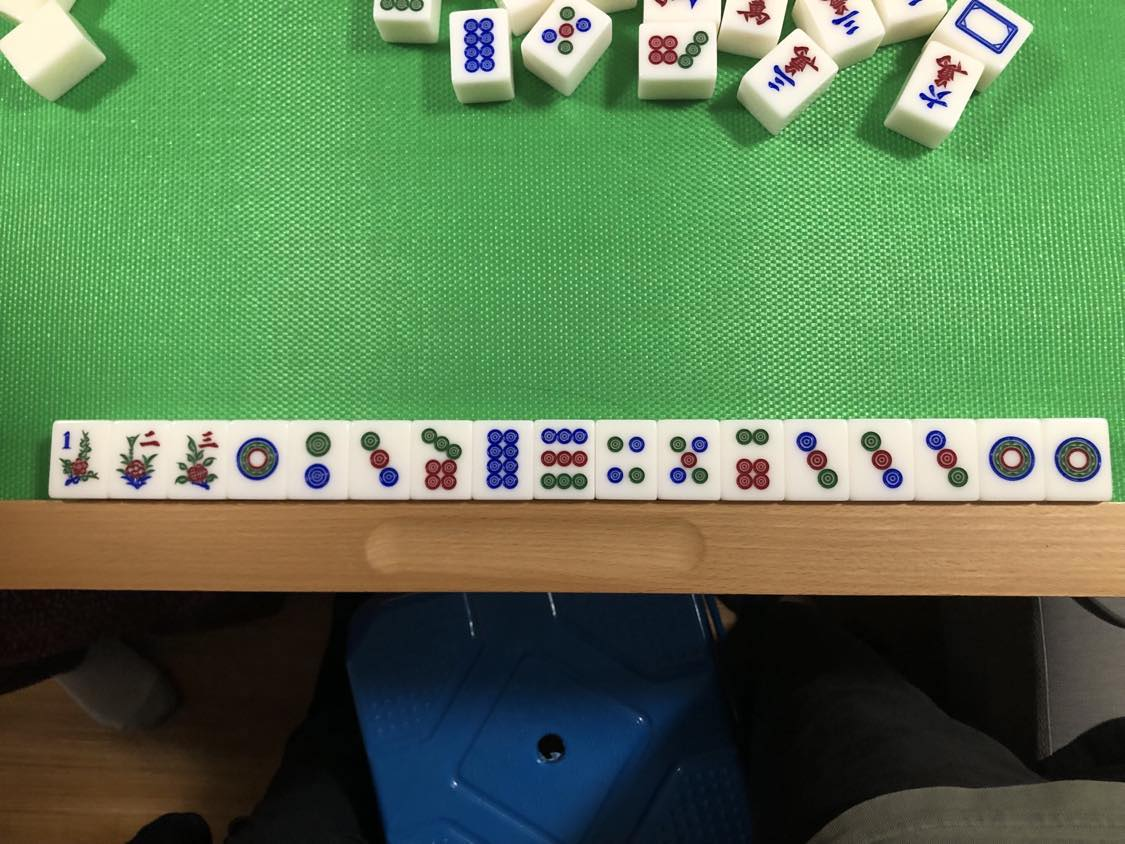circle-eight: (473, 422, 534, 499)
circle-five: (662, 422, 721, 499)
circle-four: (598, 423, 659, 497)
circle-nine: (536, 422, 594, 497)
circle-one: (979, 420, 1043, 500), (1048, 420, 1108, 499), (230, 422, 288, 498)
circle-seven: (412, 422, 472, 498)
circle-six: (723, 421, 783, 498)
circle-three: (787, 422, 849, 499), (915, 421, 977, 498), (852, 421, 912, 500), (352, 426, 409, 499)
circle-two: (291, 423, 348, 500)
flower-blue_one: (53, 421, 109, 497)
flower-red_three: (173, 425, 226, 498)
flower-red_two: (113, 422, 169, 498)
